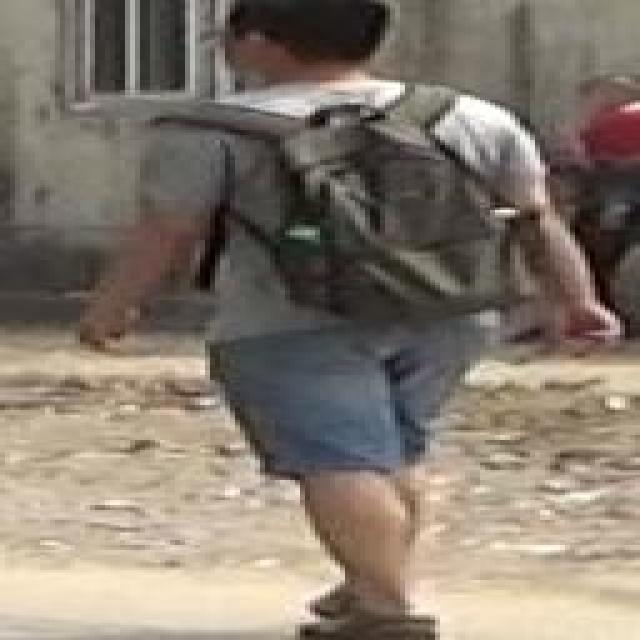adult: (99, 0, 620, 633)
